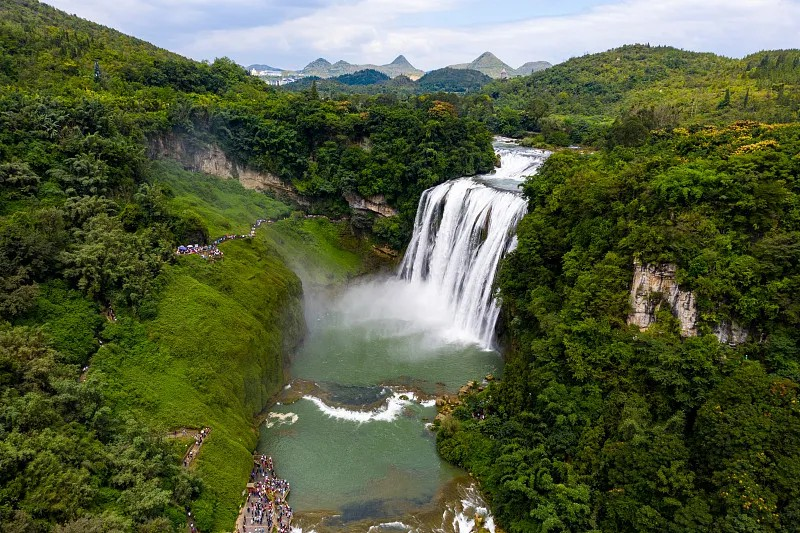Huangguoshu: (398, 156, 542, 353)
